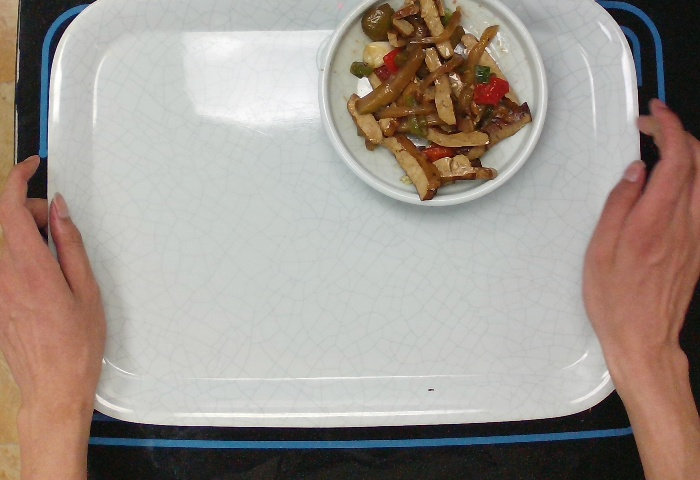JYsf-Xiao_Yuan_Pan: (316, 1, 552, 209)
